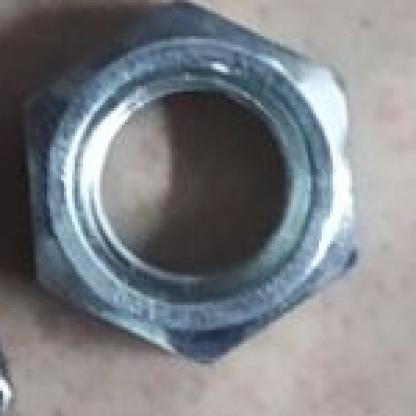FOD: (11, 8, 377, 383)
